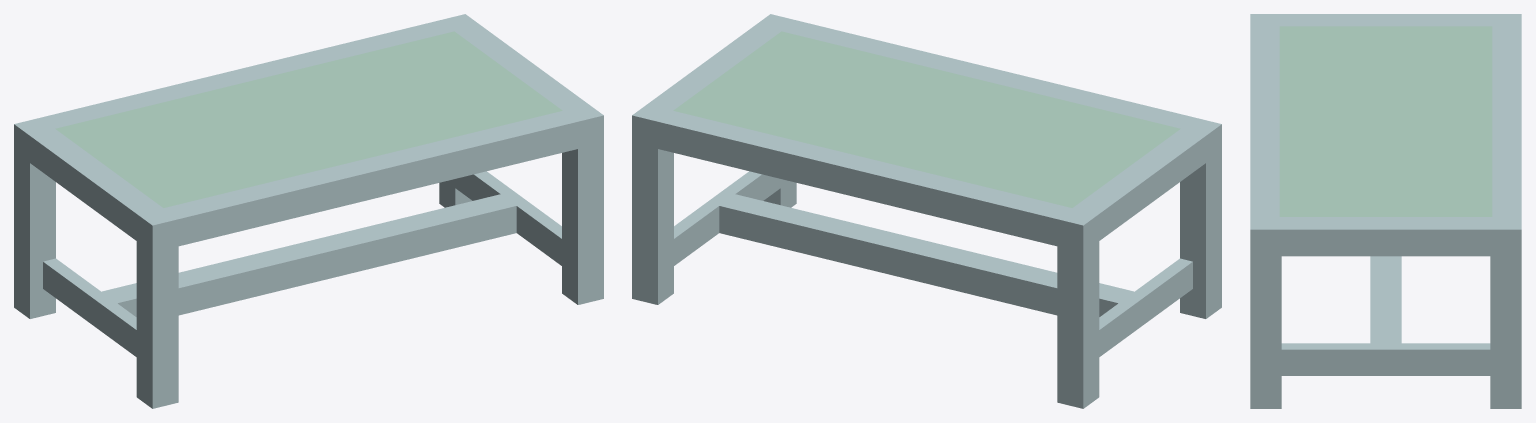
The model's file is tableGlass.fbx.
3 renders of one model, left to right at view 1: azimuth 30°, elevation 25°; view 2: azimuth 150°, elevation 25°; view 3: azimuth 270°, elevation 25°, orthographic. The views are drawn at different scales.
Parts seen in each view (by area): view 1: tableGlass; view 2: tableGlass; view 3: tableGlass.
Boxes of the visible parts, x1=… form: tableGlass: x1=14, y1=14, x2=603, y2=408; tableGlass: x1=632, y1=14, x2=1221, y2=408; tableGlass: x1=1250, y1=14, x2=1521, y2=408.
Size of the model in its own units: 8.41 by 3.27 by 4.47.
